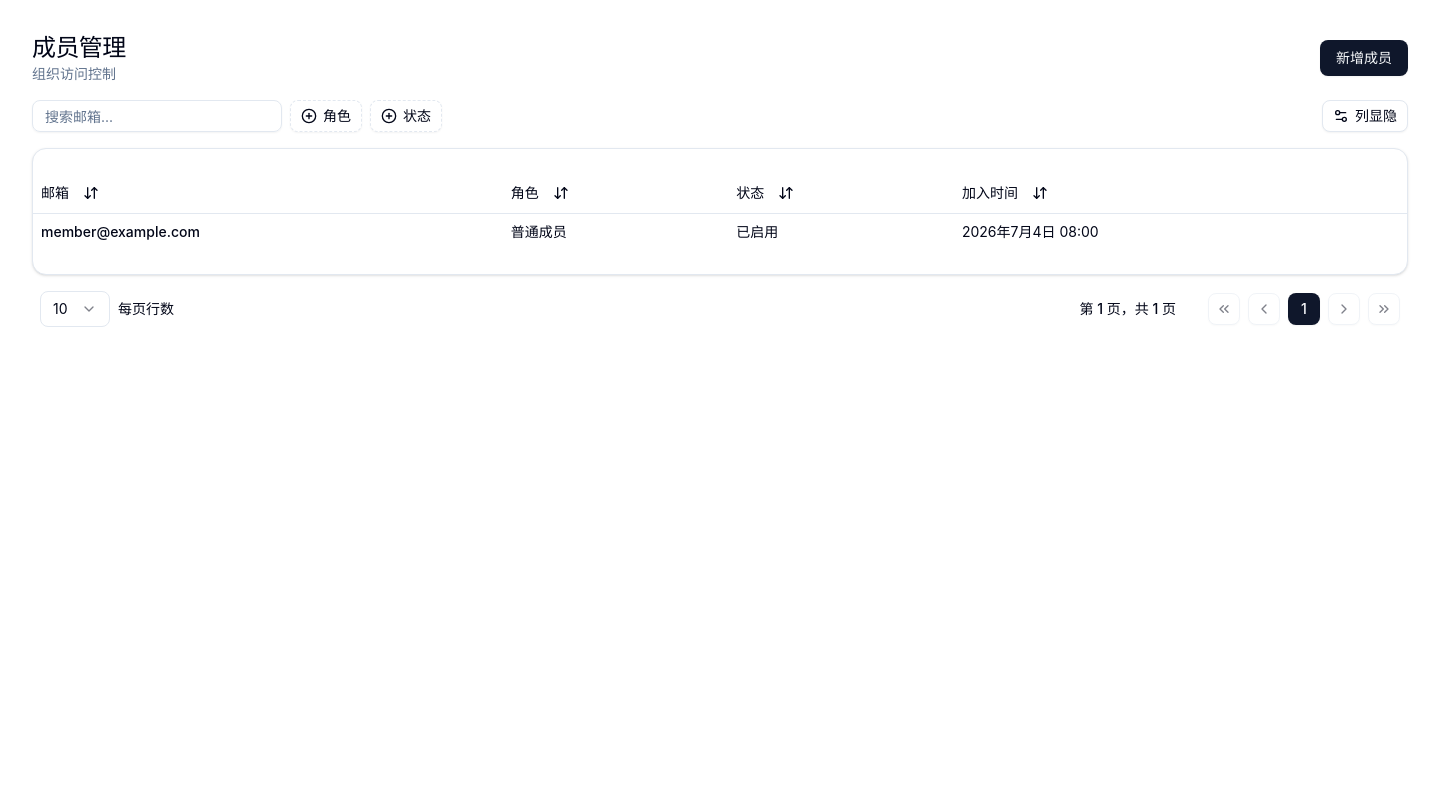
Test: MembersPage › creates a member, closes the dialog, and refreshes the list
The image size is (1440, 810).
Click the button "新增成员" at (1364, 58), box [1320,40,1408,76]
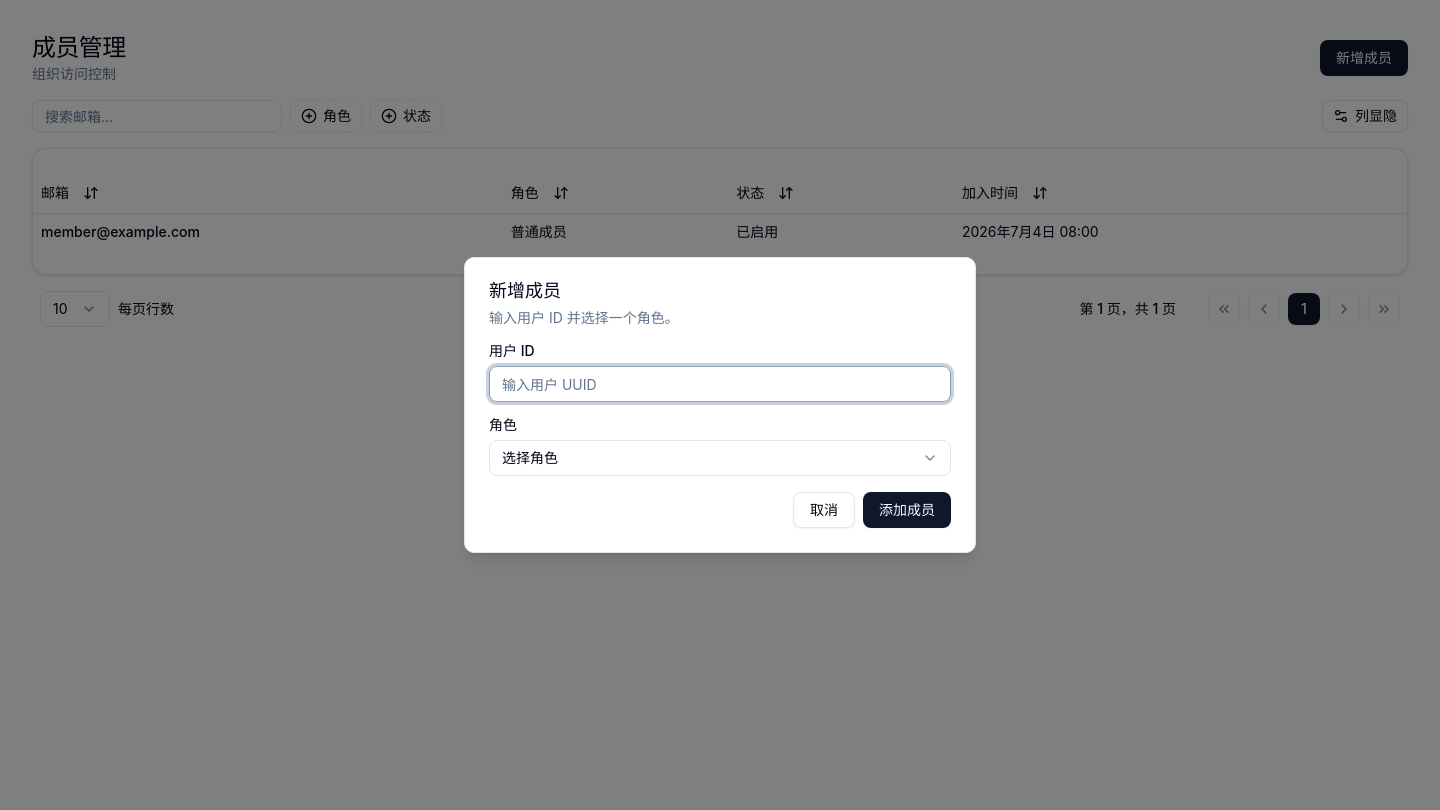
Type "b7d2b905-075d-4a18-9340-2f0e0d1dc4f1" into the field labelled "用户 ID" at (720, 384), box [489,366,951,402]
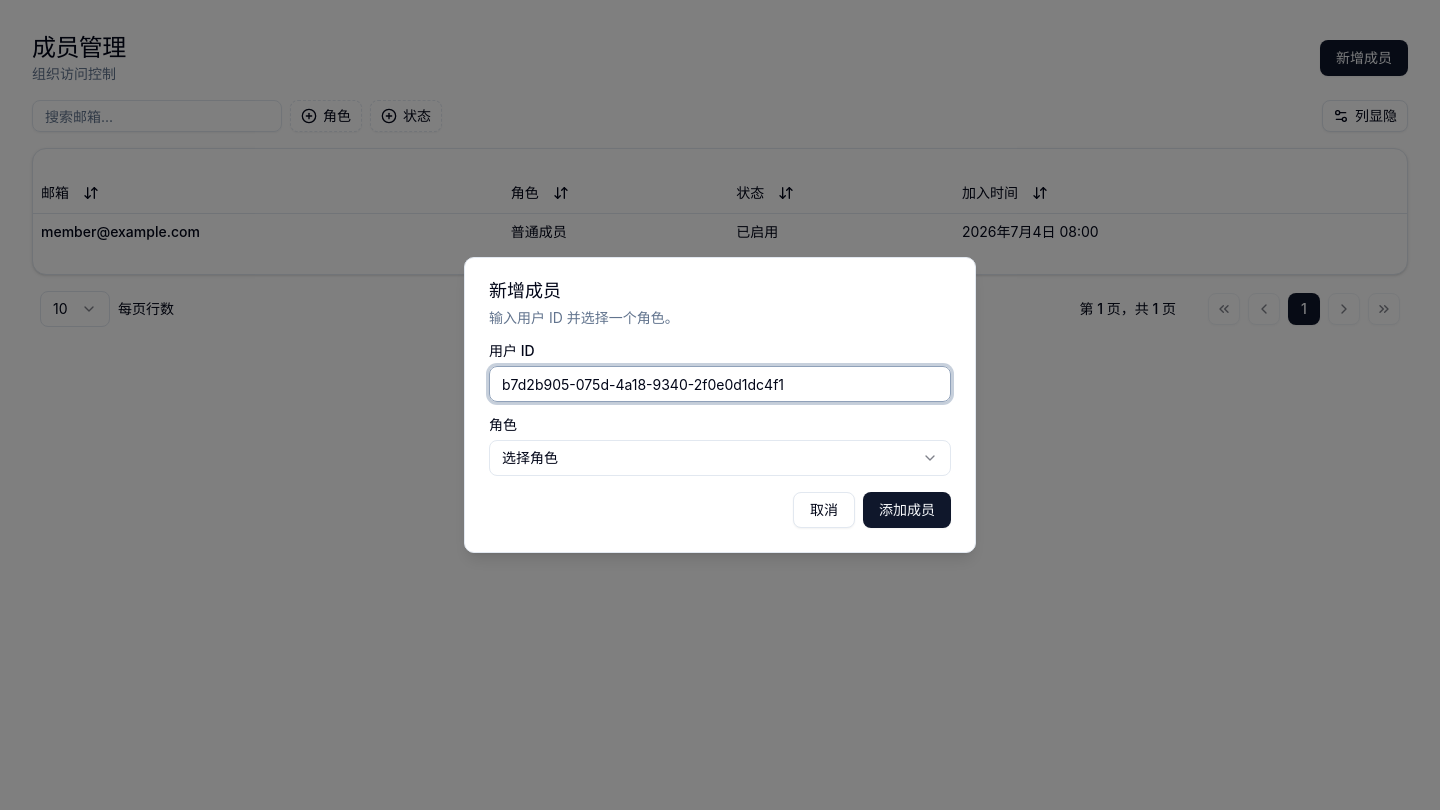
Click the dropdown labelled "角色" at (530, 458), box [489,440,951,476]
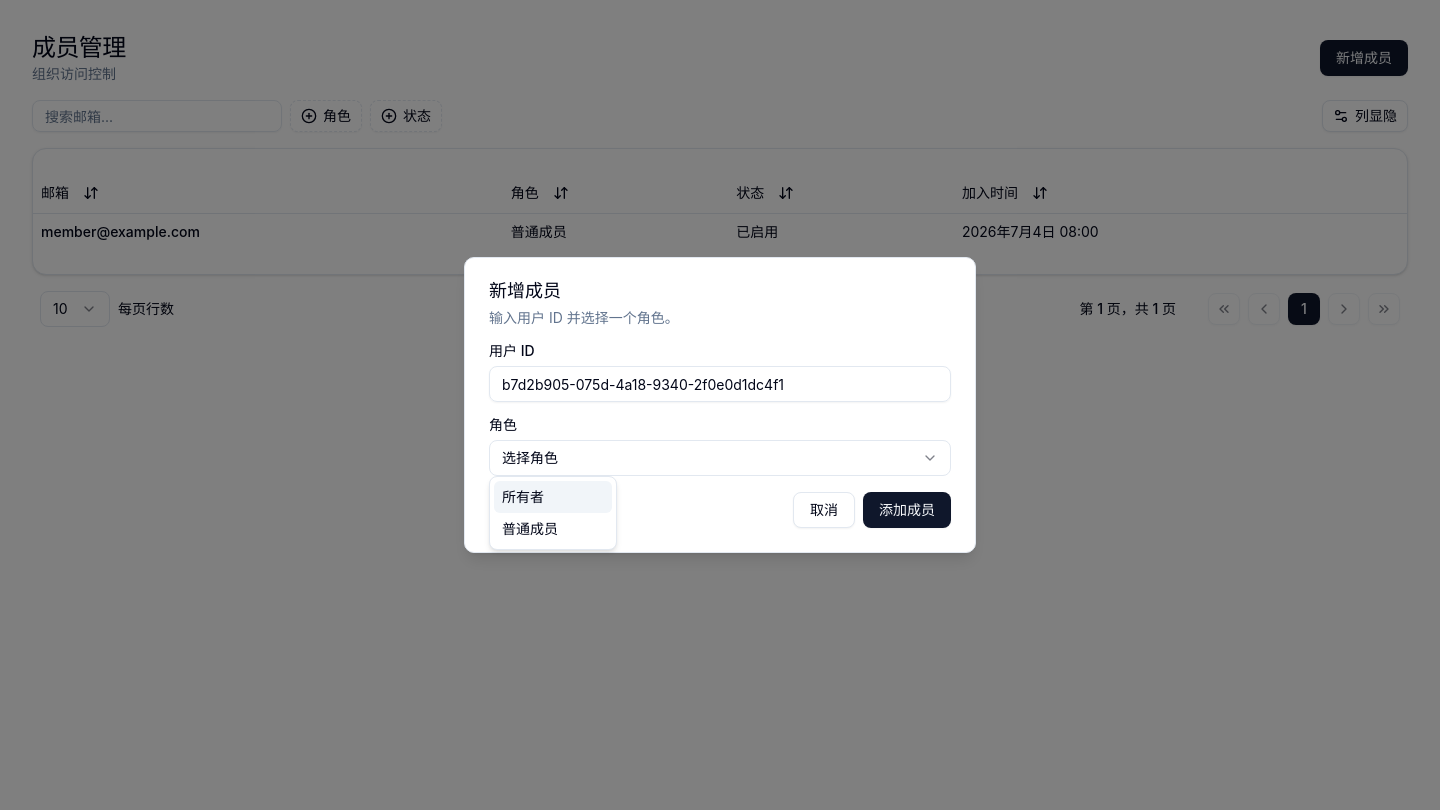
Click the option "普通成员" at (530, 528), box [502,520,558,537]
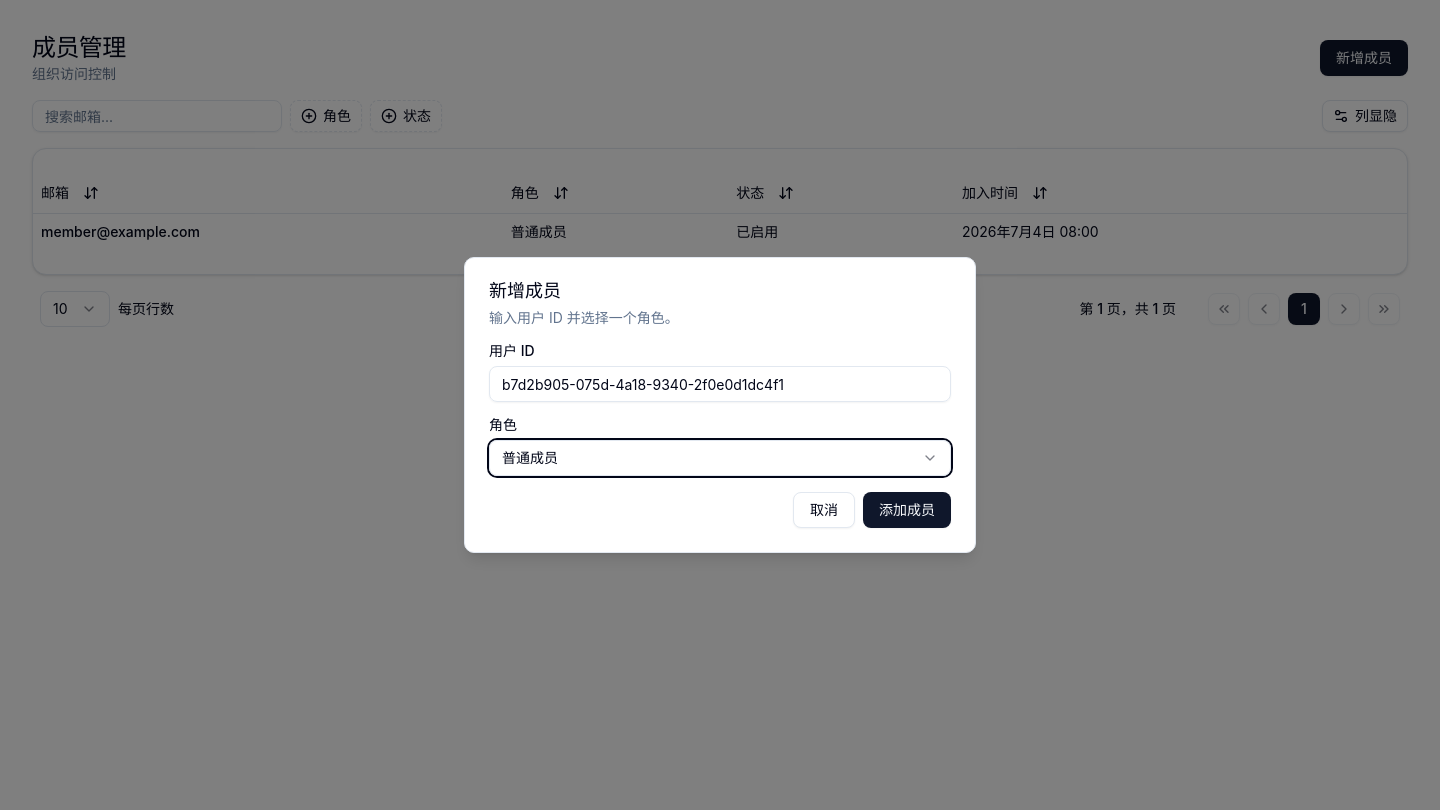
Click the button "添加成员" at (907, 510), box [863,492,951,528]
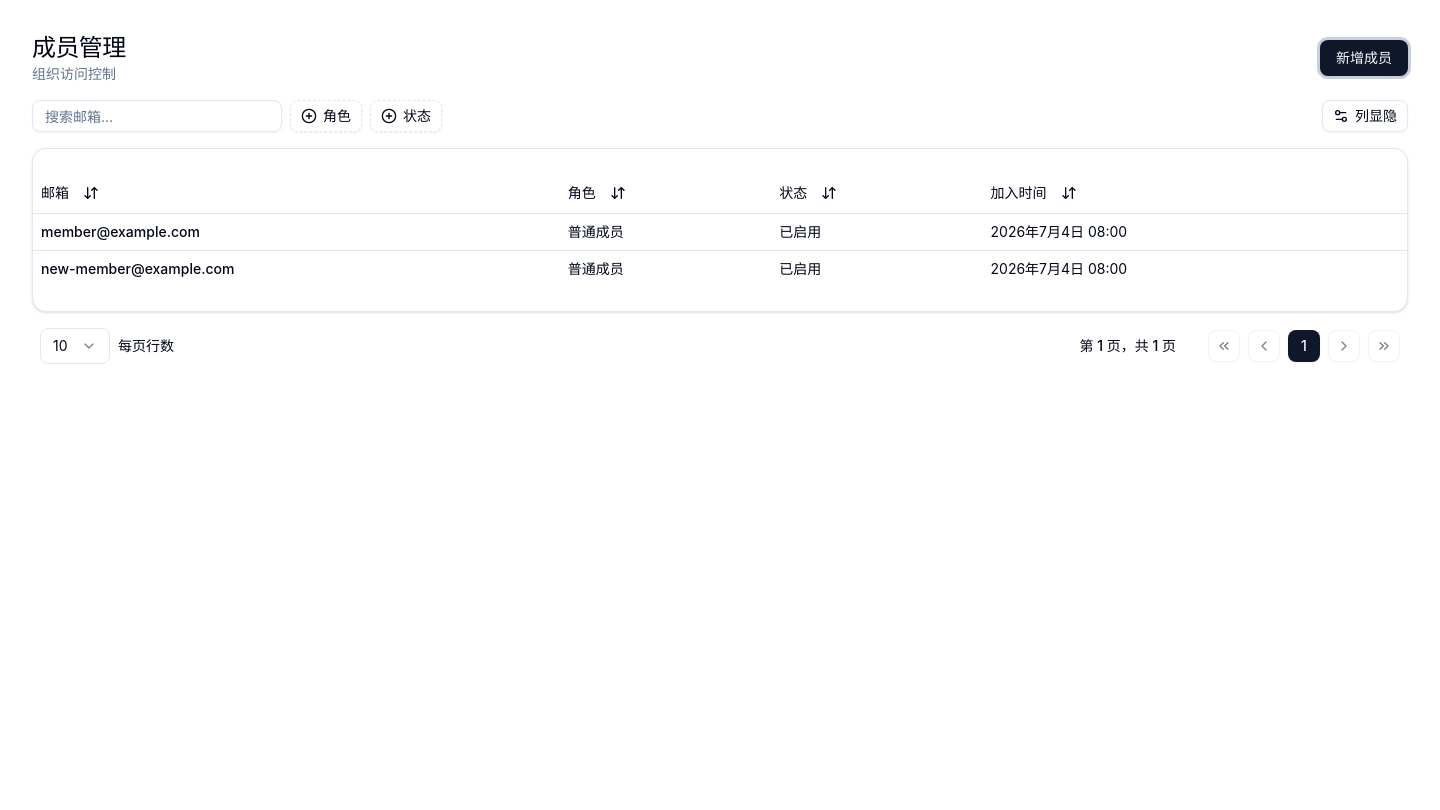
Check: the text "new-member@example.com" is shown, box [41,260,234,276]
Check: the dialog is gone
